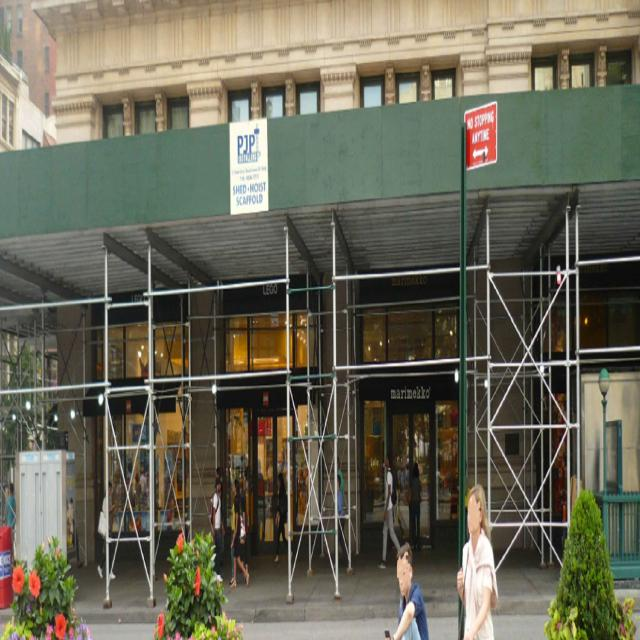body: (226, 453, 312, 545), (455, 480, 501, 640), (365, 446, 456, 526), (115, 465, 188, 533), (392, 541, 429, 640), (378, 453, 401, 569), (97, 480, 116, 581), (230, 494, 250, 588), (273, 471, 293, 563), (230, 478, 244, 588), (333, 474, 349, 569), (237, 489, 250, 586), (212, 477, 224, 582), (411, 462, 422, 551), (5, 483, 16, 564), (67, 497, 77, 548), (215, 467, 223, 520), (337, 456, 344, 499)
